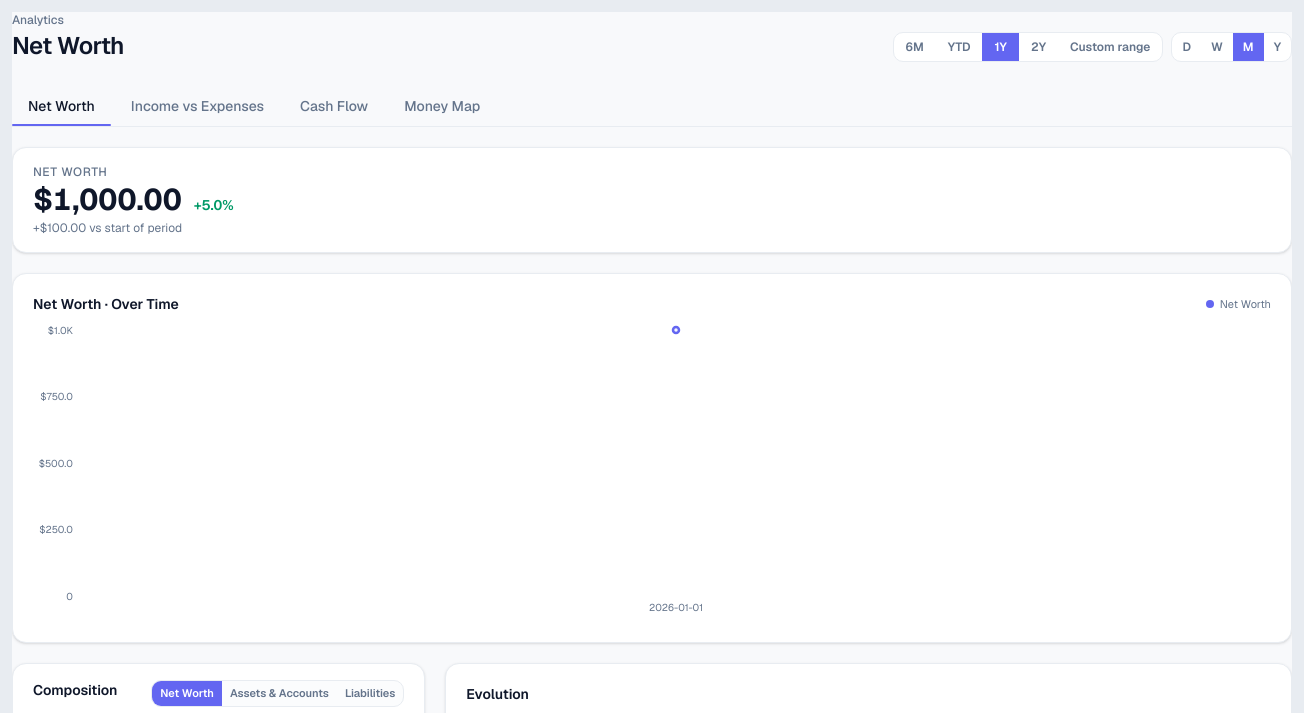
Reports page — Custom range segment › is not offered on the Cash Flow tab
The image size is (1304, 713).
Click the button "Cash Flow": [334, 106] box [284,86,384,126]
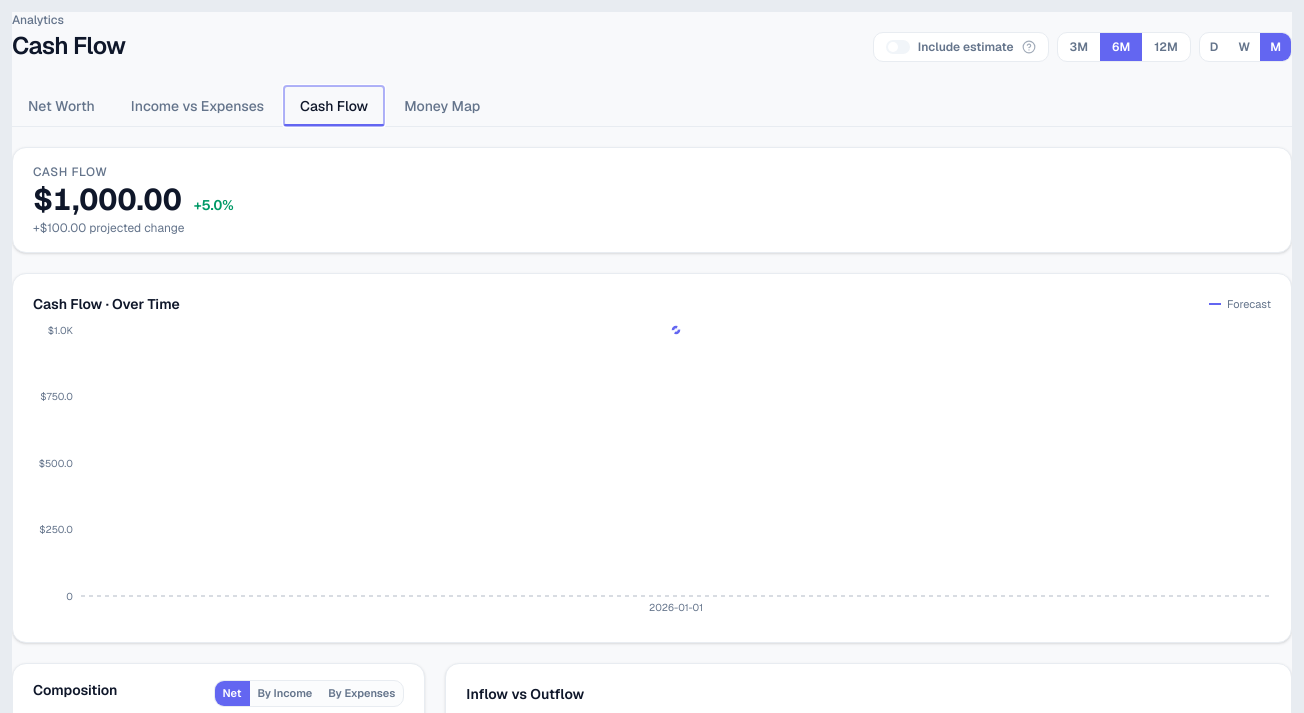
Now the button "Custom range" is gone
